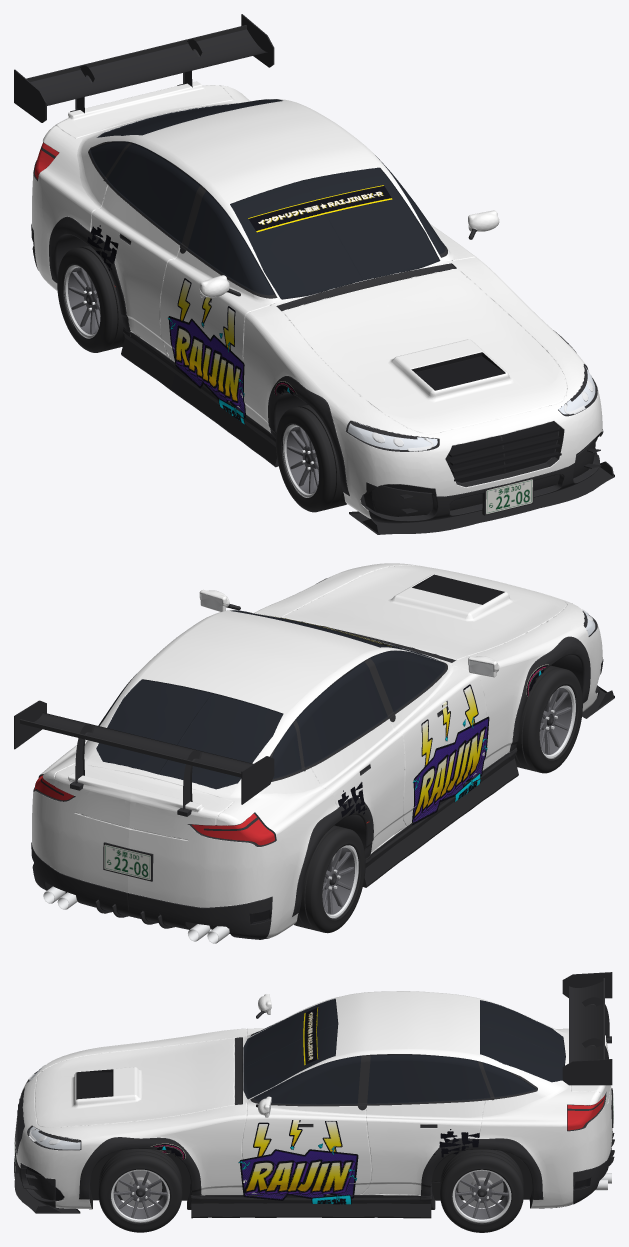
File: raijin.fbx
3 renders of one model, top to bottom at view 1: azimuth 30°, elevation 25°; view 2: azimuth 150°, elevation 25°; view 3: azimuth 270°, elevation 25°, orthographic. The views are drawn at different scales.
Visible parts, largest first — view 1: Body, Wheel_FR, Wheel_RR; view 2: Body, Wheel_FR, Wheel_RR; view 3: Body, Wheel_FL, Wheel_RL.
Boxes of the visible parts, x1,y1,x2,y2 form: Body: (14, 14, 614, 534); Wheel_FR: (276, 404, 346, 512); Wheel_RR: (57, 245, 124, 352); Body: (14, 563, 614, 943); Wheel_FR: (515, 665, 582, 773); Wheel_RR: (294, 825, 365, 933); Body: (14, 972, 614, 1218); Wheel_FL: (98, 1149, 182, 1232); Wheel_RL: (440, 1149, 523, 1232).
Size of the model in its own units: 2.1 by 1.46 by 4.7.
Materials: 14 (2 with a texture image).
